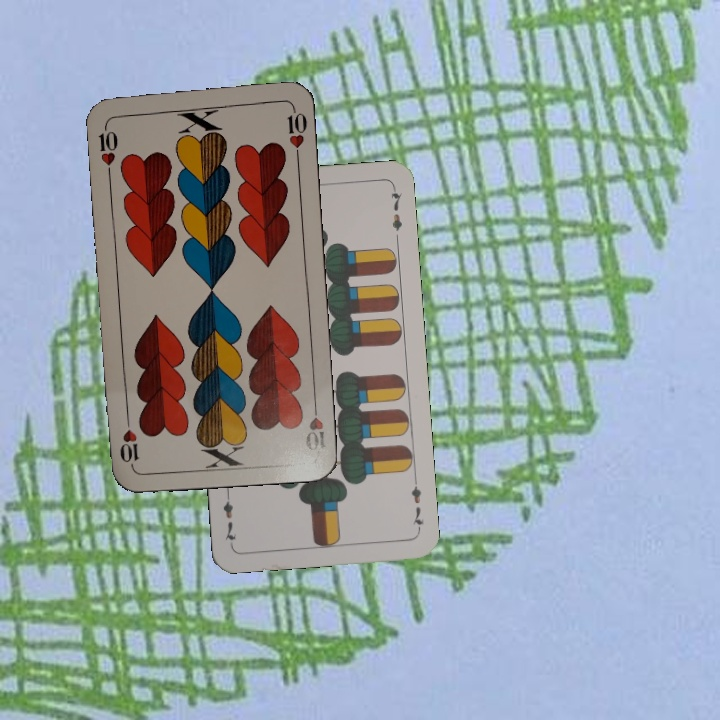E7: (407, 474, 426, 533)
H10: (94, 119, 121, 178), (301, 396, 327, 453)
